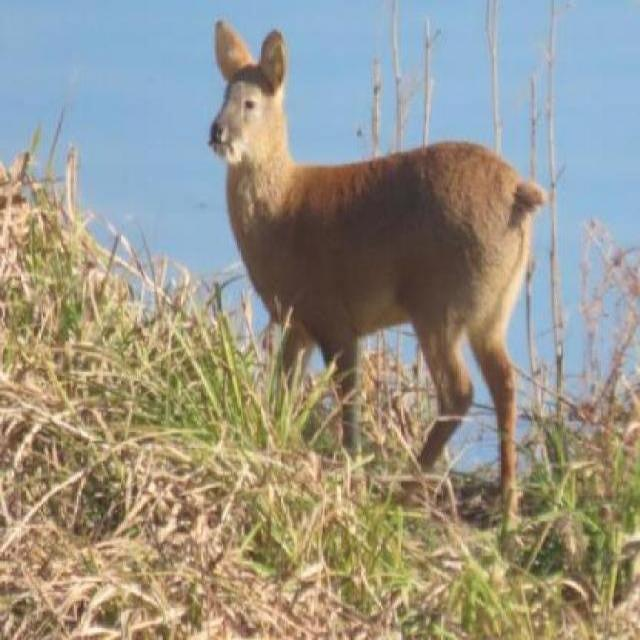deer: (208, 10, 538, 538)
